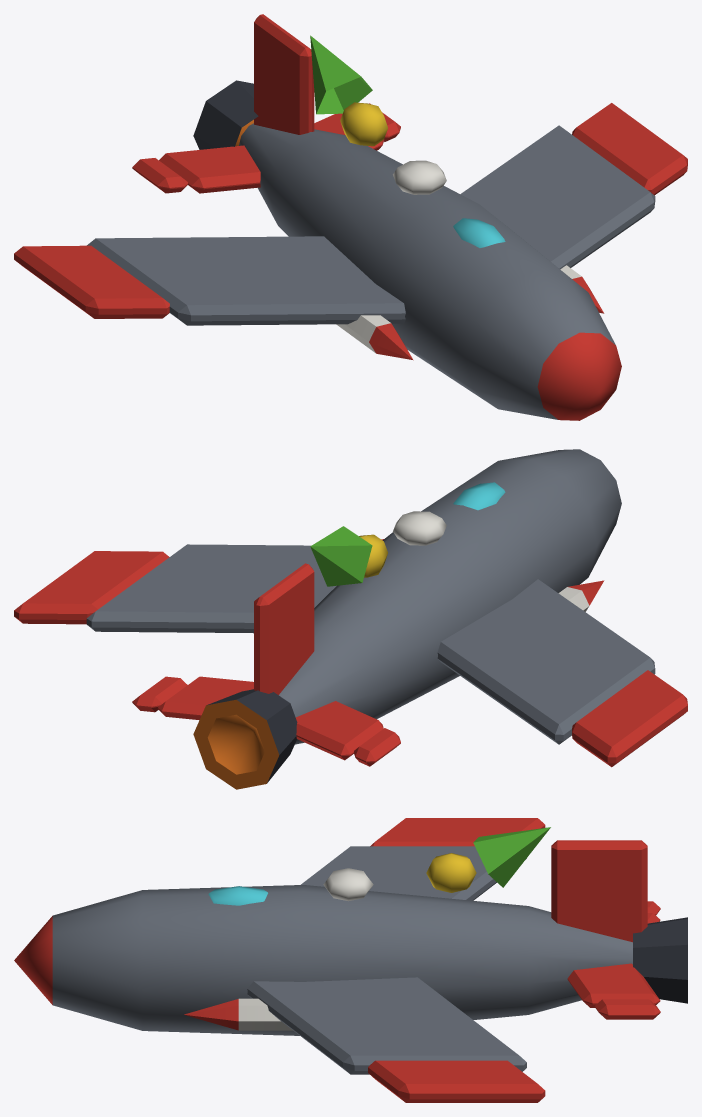
3 views of the same model, one above another, from view 1: azimuth 30°, elevation 25°; view 2: azimuth 150°, elevation 25°; view 3: azimuth 270°, elevation 25° (orthographic). The views are drawn at different scales.
Parts seen in each view (by area): view 1: as_0_base; view 2: as_0_base; view 3: as_0_base.
Part boxes in pixels (x1,y1,x2,y2): as_0_base: (14,14,687,420); as_0_base: (14,449,687,789); as_0_base: (14,818,687,1102).
Size of the model in its own units: 1.05 by 0.3641 by 1.1.
